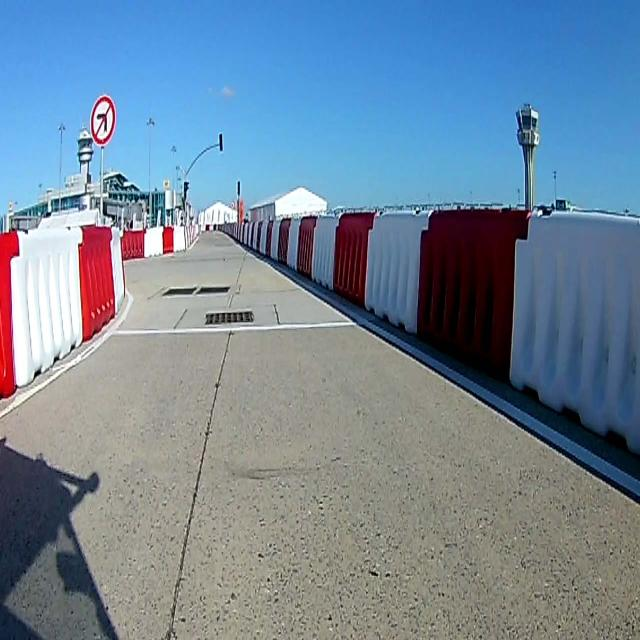soladonulmez: (90, 91, 116, 148)
